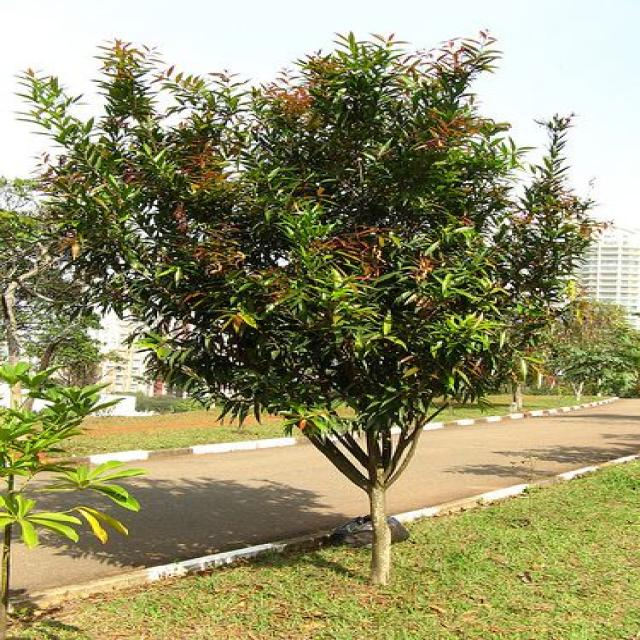Medicinal-Rose Apple: (38, 30, 622, 602)
